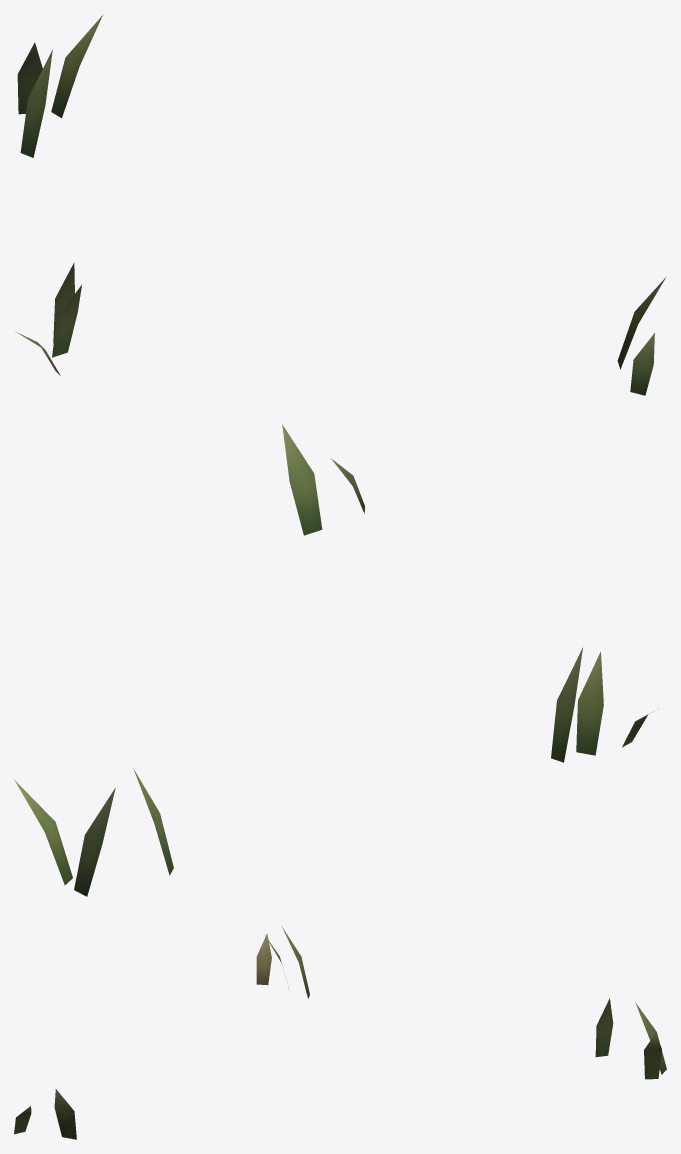
File: woodland_undergrass_mid.gltf
The picture shows the model from 3 angles, top to bottom: view 1: azimuth 30°, elevation 25°; view 2: azimuth 150°, elevation 25°; view 3: azimuth 270°, elevation 25°; orthographic projection. The views are drawn at different scales.
Parts seen in each view (by area): view 1: woodland_undergrass_mid; view 2: woodland_undergrass_mid; view 3: woodland_undergrass_mid.
Part boxes in pixels (bbox=[...]): woodland_undergrass_mid: bbox=[15, 15, 665, 395]; woodland_undergrass_mid: bbox=[14, 424, 653, 896]; woodland_undergrass_mid: bbox=[14, 927, 666, 1139].
Bounding box in the file's own units: 0.5844 × 0.1047 × 0.8855.
Materials: 3 (3 with a texture image).
